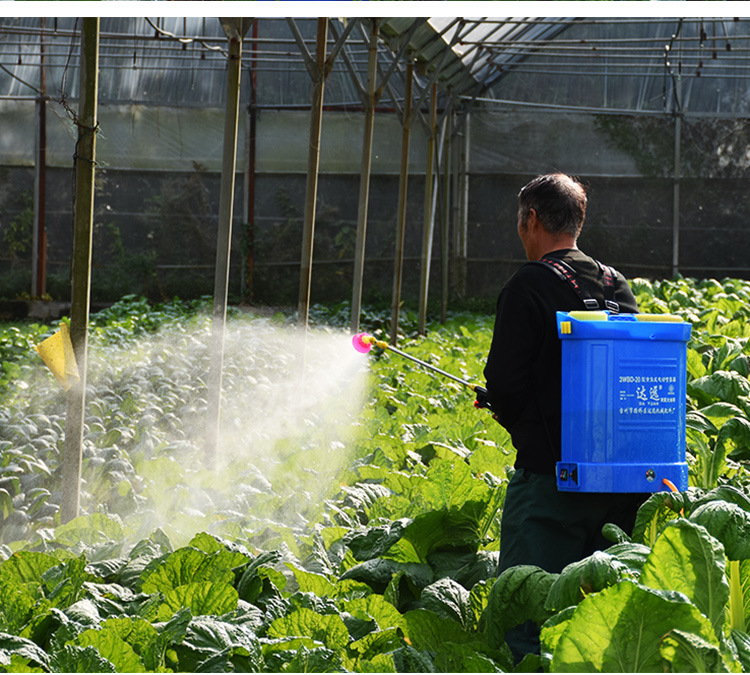berrl: (551, 304, 693, 497)
